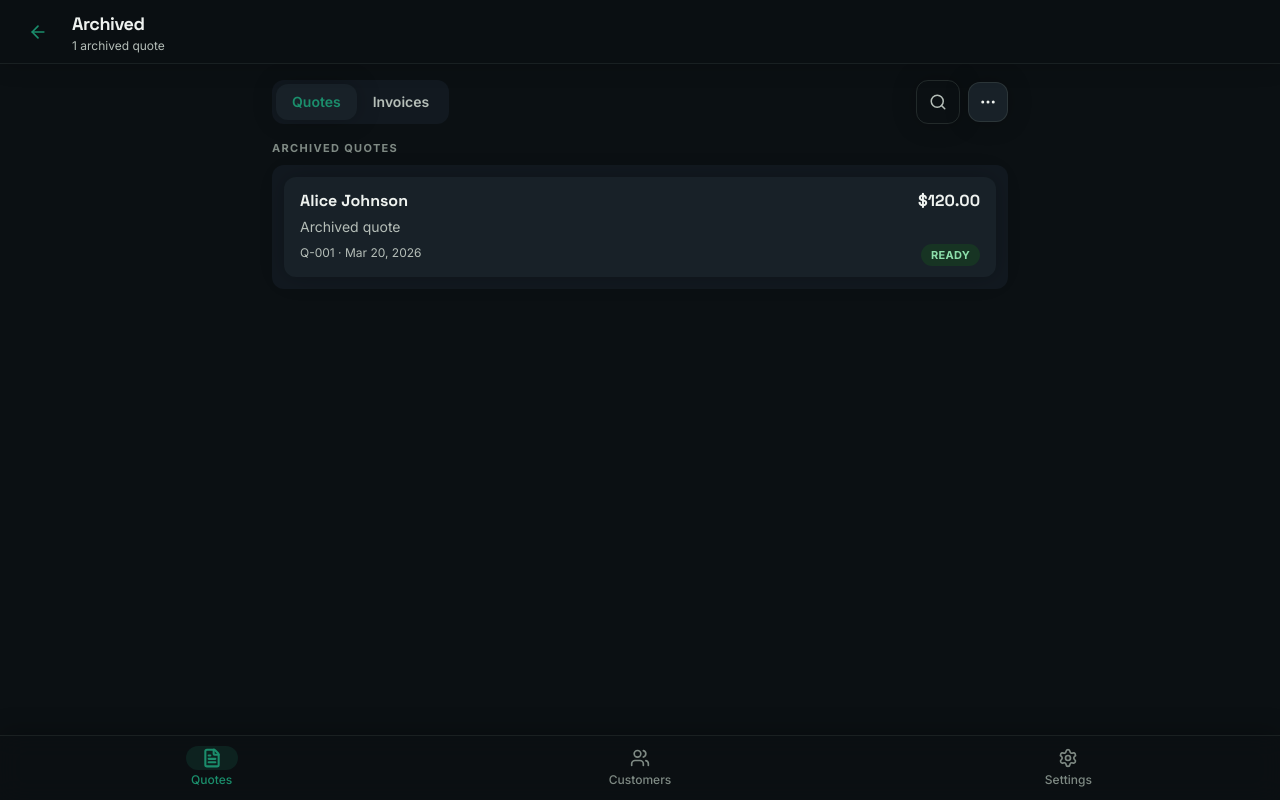
ArchiveList › unarchives selected archived quotes and clears selection
The image size is (1280, 800).
Expected: the button "Alice Johnson" is shown, [284,176,996,276]
Click the button named "List actions": (988, 102) [968,82,1008,122]
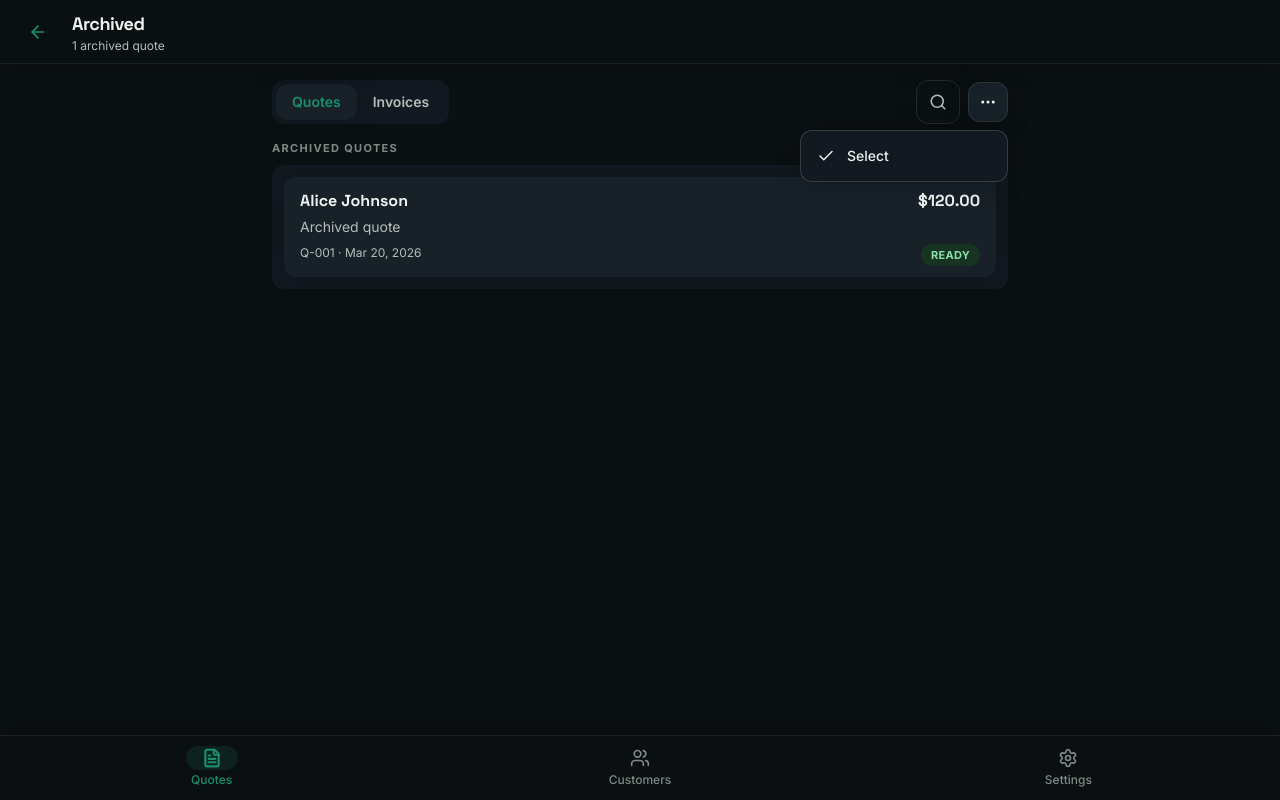
Click the menu item "Select": (904, 156) [807,137,1001,175]
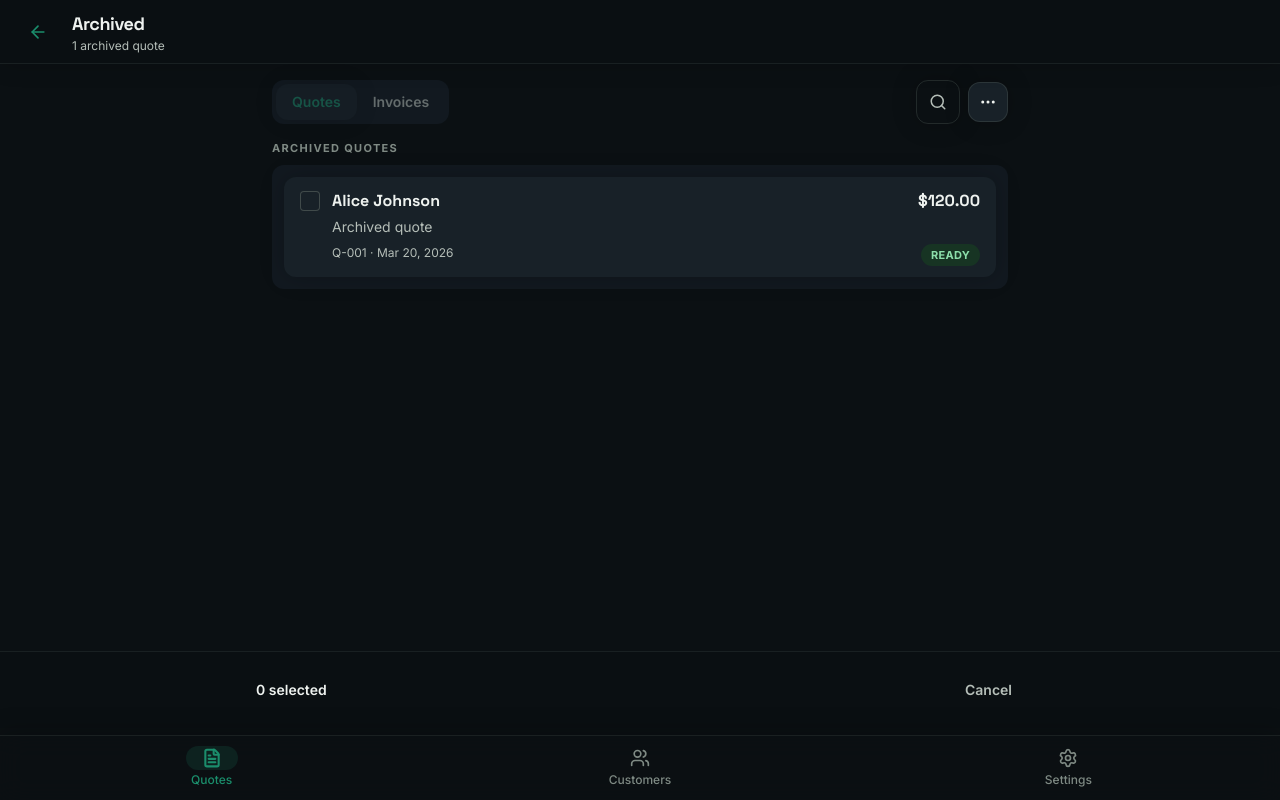
Click the button "Alice Johnson": (386, 200) [284,176,996,276]
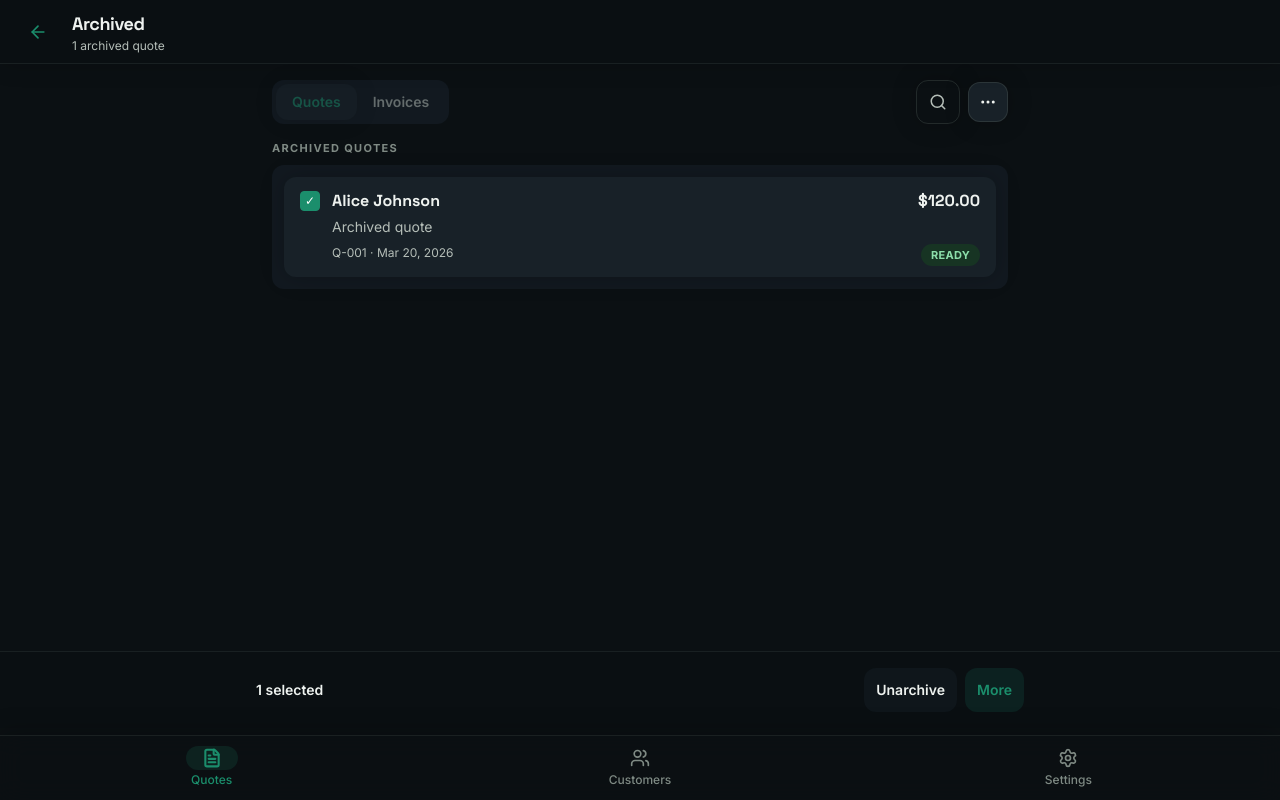
Click the button "Unarchive": (911, 690) [864,668,957,712]
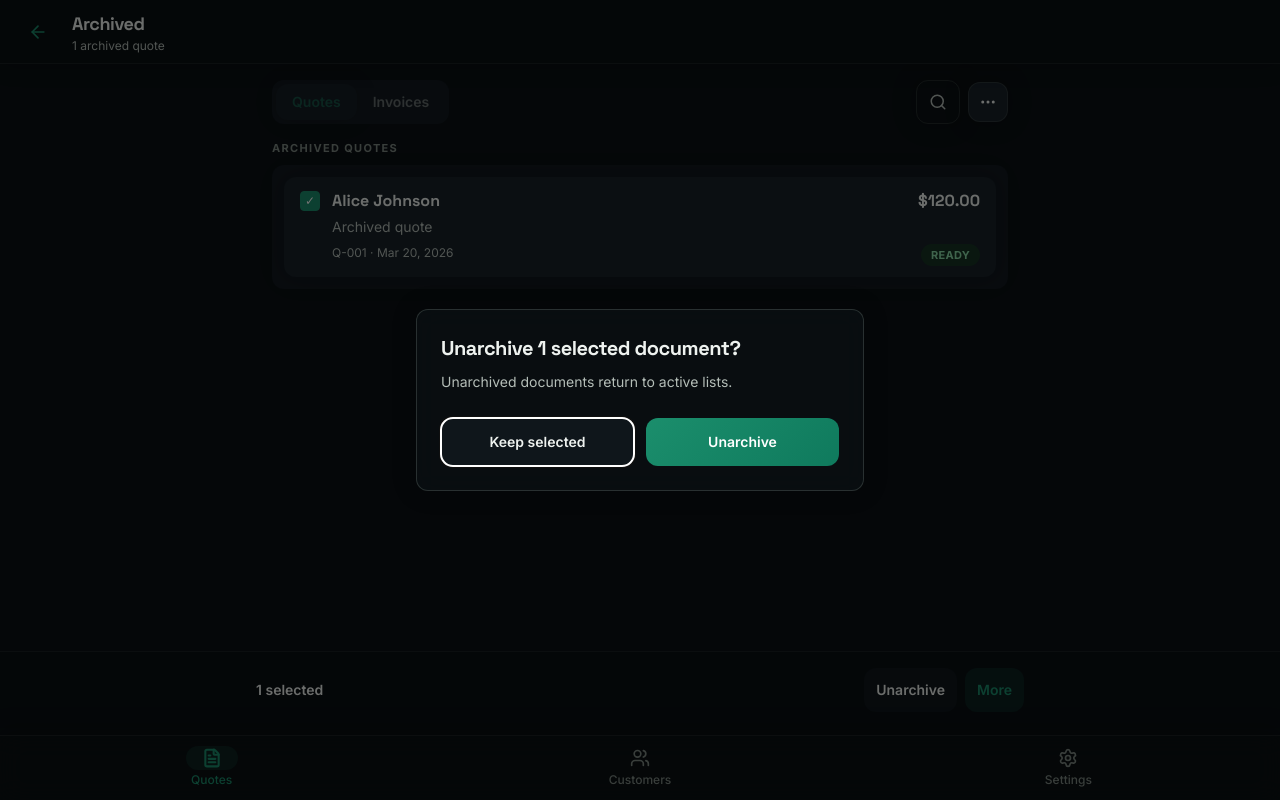
Click the button "Unarchive": (742, 442) [646,418,839,466]
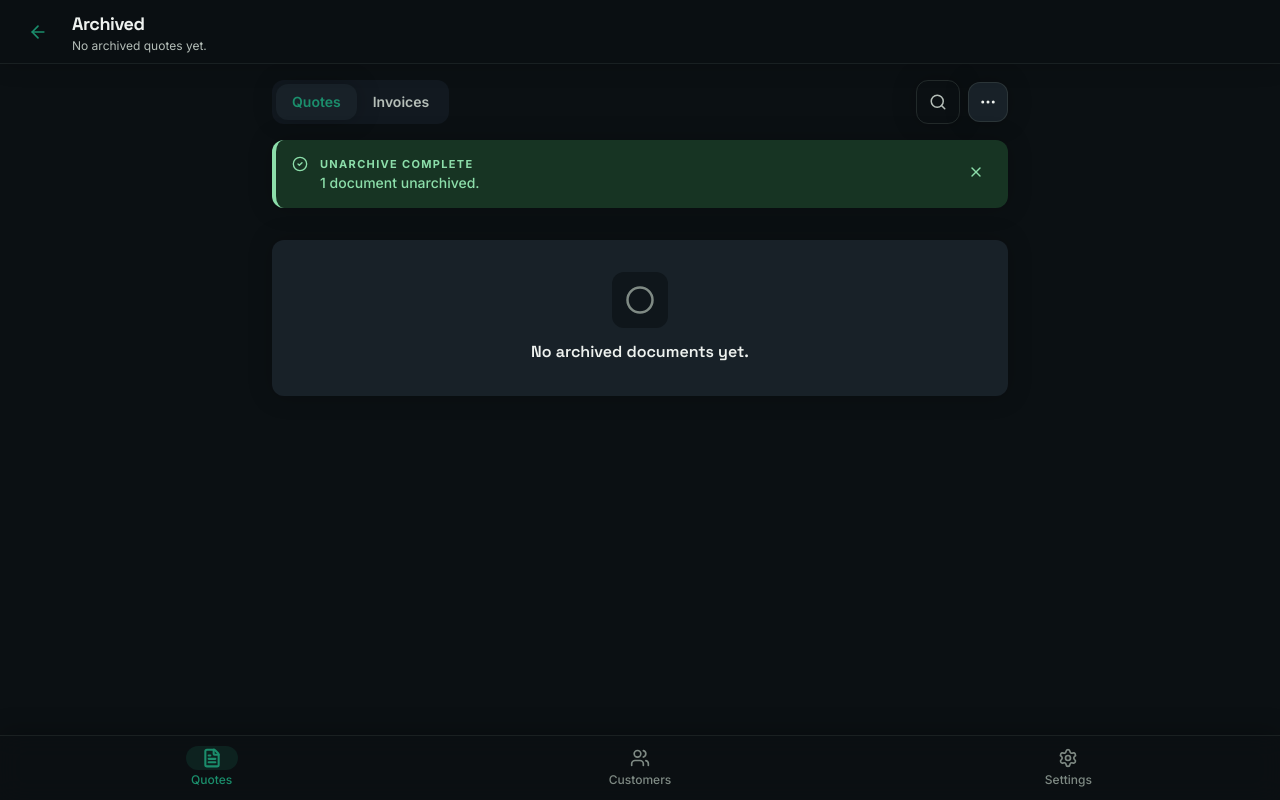
Expected: the text "1 document unarchived." is shown, [320,174,480,190]
Expected: the text "1 selected" is gone
